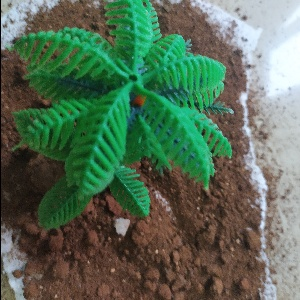plant: (21, 2, 235, 229)
